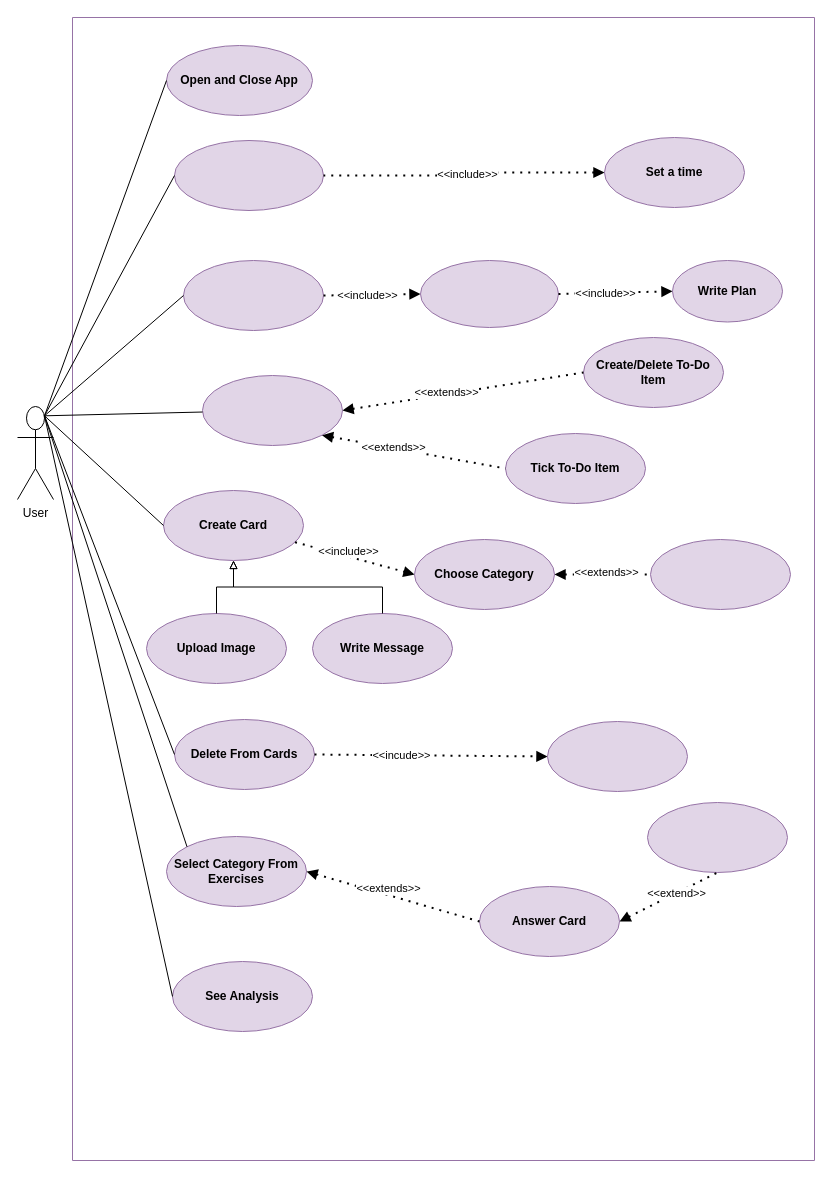
Some shapes in this 832 by 1178 pixel diagram are drawn without their labels. The shapes that lost their labels are listed below. From the top down, each one's centre as x and y in pixels, then its label:
pixel 249 175: Select Pomodro
pixel 253 295: Planning
pixel 489 294: Select Day
pixel 272 410: See To-Do-List
pixel 720 574: Create Category
pixel 617 756: Select Item
pixel 717 837: Move Another Card
